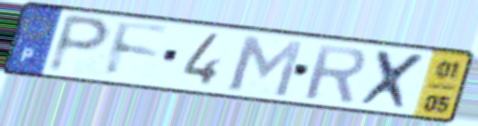4: (179, 32, 224, 88)
F: (102, 18, 172, 80)
M: (226, 32, 307, 100)
P: (43, 11, 115, 76)
R: (302, 42, 368, 105)
X: (355, 47, 432, 114)
